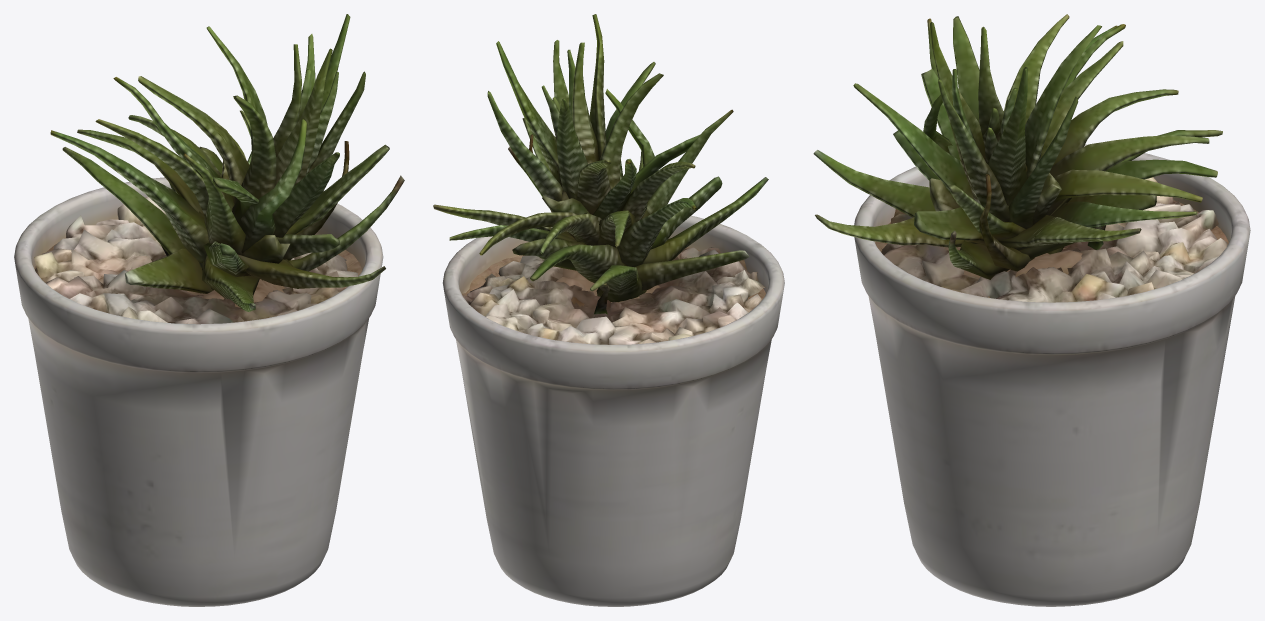
Rendered from potted_plant_04.glb.
3 views of the same model, side by side, from view 1: azimuth 30°, elevation 25°; view 2: azimuth 150°, elevation 25°; view 3: azimuth 270°, elevation 25° (orthographic). The views are drawn at different scales.
Visible parts, largest first — view 1: potted_plant_04_ground; view 2: potted_plant_04_ground; view 3: potted_plant_04_ground.
Part boxes in pixels (x1,y1,x2,y2): potted_plant_04_ground: [14, 14, 404, 606]; potted_plant_04_ground: [433, 14, 784, 606]; potted_plant_04_ground: [813, 14, 1250, 606].
Size of the model in its own units: 0.1679 by 0.2675 by 0.1847.
1 material, 1 textured.
